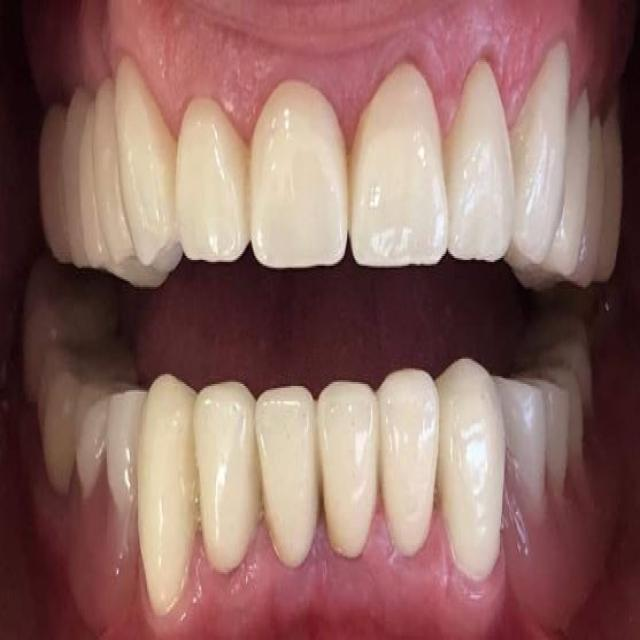1st Molar: (37, 343, 136, 496), (59, 91, 88, 262), (543, 368, 584, 469), (599, 114, 623, 286)
1st Premolar: (549, 97, 593, 268), (91, 80, 131, 268), (498, 378, 544, 516), (106, 389, 146, 516)
2nd Molar: (21, 256, 119, 393), (518, 320, 593, 407), (37, 107, 68, 260)
2nd Premolar: (563, 115, 602, 287), (533, 378, 572, 500), (80, 99, 107, 268), (75, 386, 107, 500)
Canine: (437, 354, 504, 586), (138, 373, 196, 617), (512, 43, 571, 264), (114, 60, 177, 266)
Central Incisor: (348, 60, 449, 268), (249, 80, 349, 270), (254, 386, 323, 572), (317, 382, 379, 560)
Lateral Incisor: (445, 60, 515, 264), (193, 382, 260, 576), (175, 97, 250, 264), (377, 368, 439, 560)
